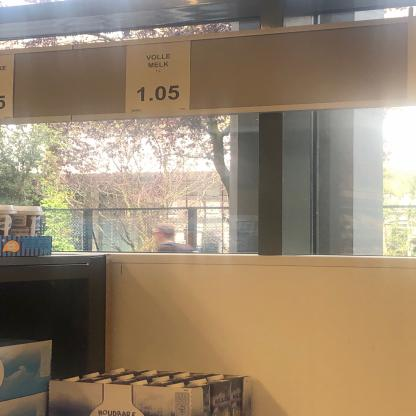prtg: (126, 42, 194, 115)
